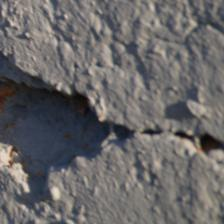Crack: (5, 71, 109, 152), (30, 94, 187, 142)
